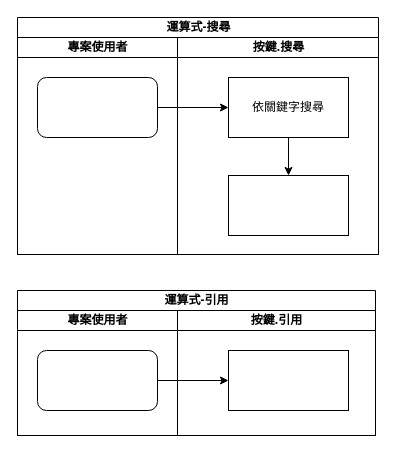
Some shapes in this 396 by 453 pixel diagram are drawn without their labels. The shapes that lost their labels are listed below. From the top down, each one's centre as x and y in pixels, then its label:
At [97,107]: "點擊按鍵.搜尋".
At [288,205]: "將搜尋結果載入清單".
At [97,380]: "點擊按鍵.引用".
At [288,380]: "元件新增至運算式內容".
